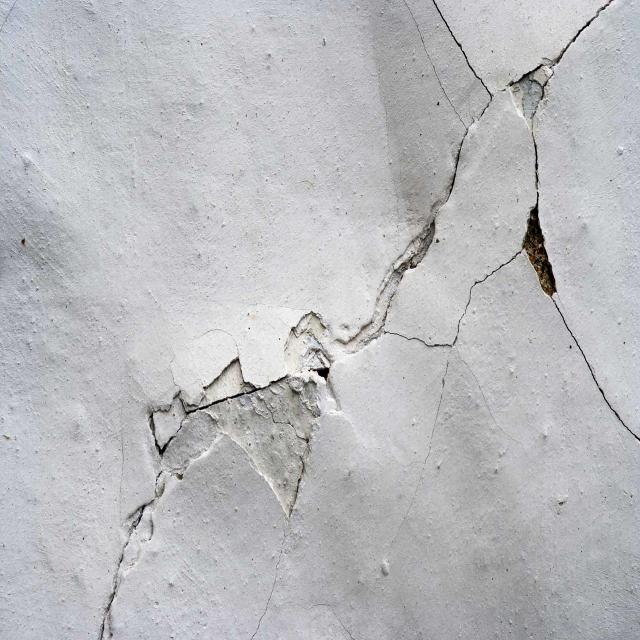Wall_Cracks: (61, 3, 635, 640)
